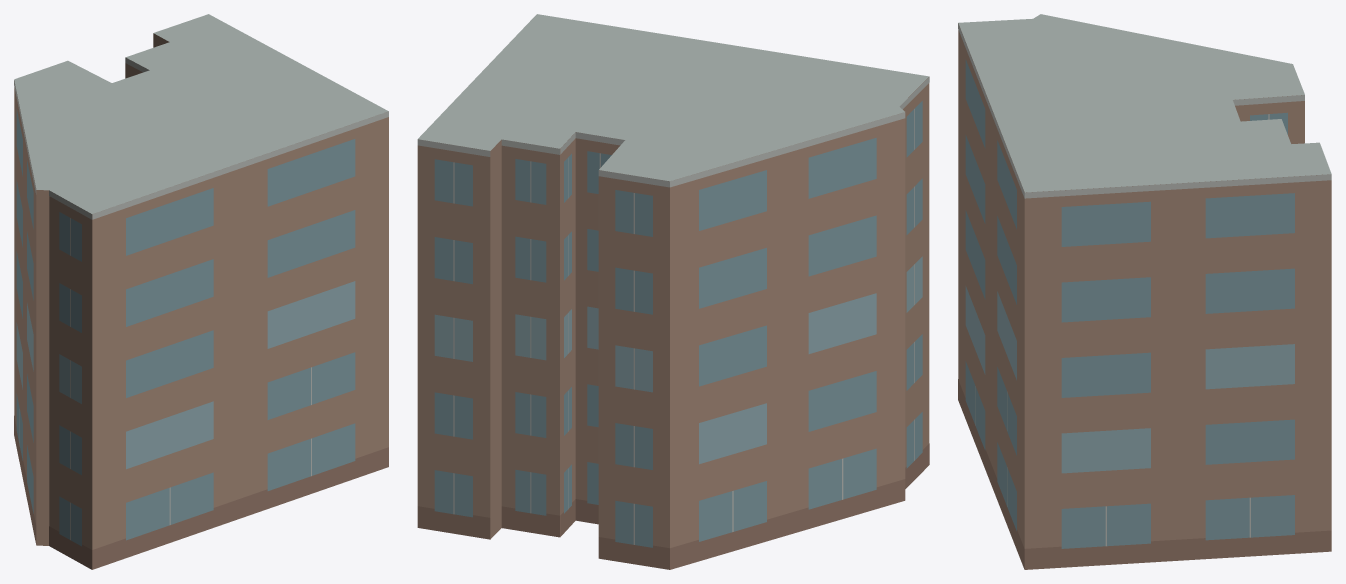
File: survey-upis-33006303.glb
3 views of the same model, side by side, from view 1: azimuth 30°, elevation 25°; view 2: azimuth 150°, elevation 25°; view 3: azimuth 270°, elevation 25° (orthographic). The views are drawn at different scales.
Parts seen in each view (by area): view 1: survey-upis-33006303.tmp; view 2: survey-upis-33006303.tmp; view 3: survey-upis-33006303.tmp.
Part boxes in pixels (bbox=[...]): survey-upis-33006303.tmp: bbox=[14, 14, 388, 569]; survey-upis-33006303.tmp: bbox=[417, 14, 929, 569]; survey-upis-33006303.tmp: bbox=[958, 14, 1331, 569].
Size of the model in its own units: 15.53 by 15.3 by 13.73.
